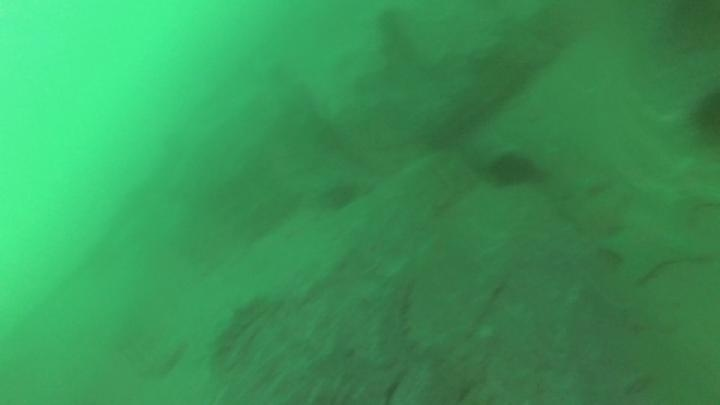echinus: (486, 149, 540, 190), (687, 85, 720, 150)
starfish: (596, 195, 715, 285)
